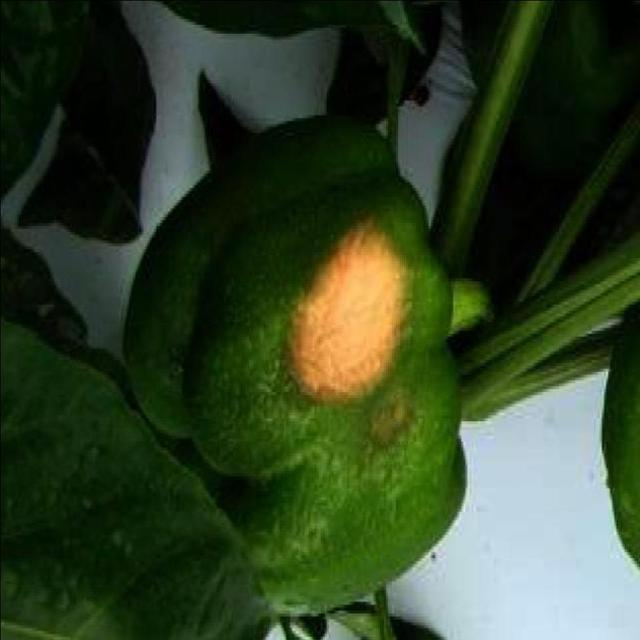Sunscald Fruit: (193, 133, 281, 298)
